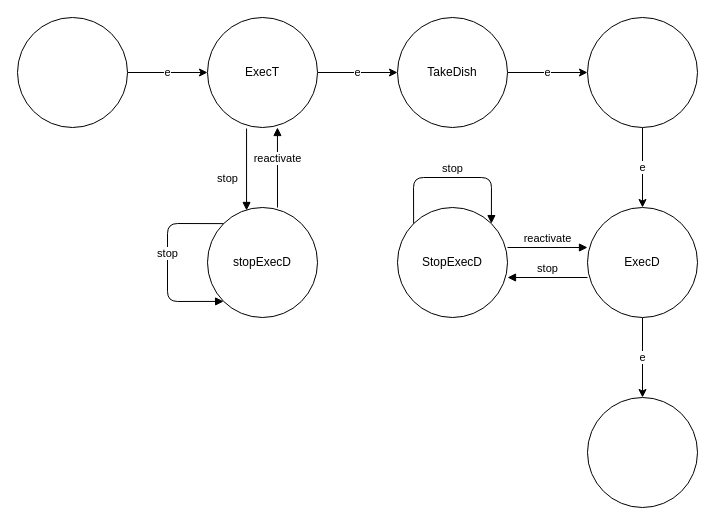
This 715x525 diagram has some shape labels left out. Each missing label, with the centre of its shape:
"CalcD" goes at [642,72].
"CalcT" goes at [72,72].
"PutDish" goes at [642,452].
